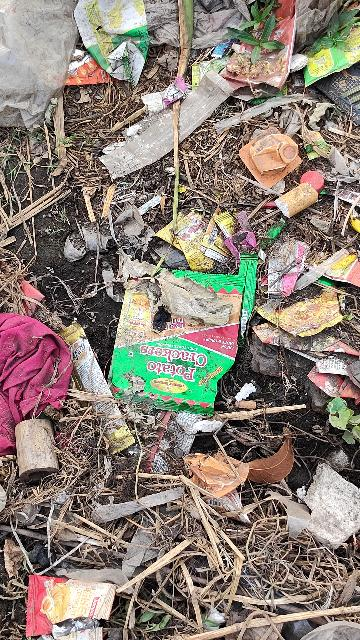packet: (78, 0, 311, 93), (116, 254, 243, 421), (265, 238, 360, 362)
